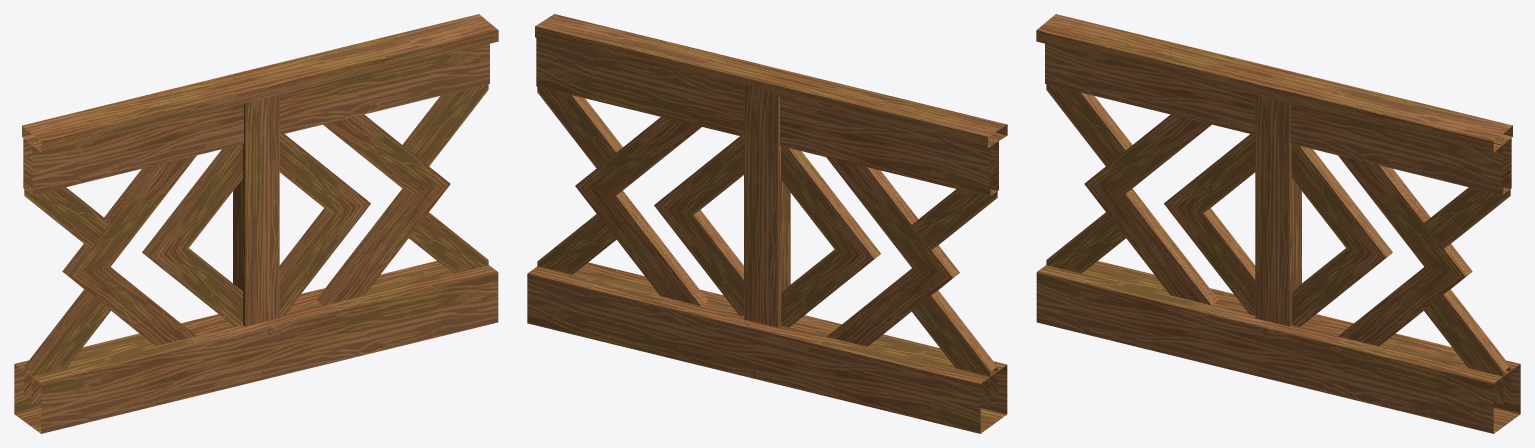
The model's file is Balcony_Cross_Straight.glb.
3 views of the same model, side by side, from view 1: azimuth 30°, elevation 25°; view 2: azimuth 150°, elevation 25°; view 3: azimuth 330°, elevation 25° (orthographic).
Parts seen in each view (by area): view 1: Balcony_Cross_Straight; view 2: Balcony_Cross_Straight; view 3: Balcony_Cross_Straight.
Part boxes in pixels (x1=…): Balcony_Cross_Straight: x1=14, y1=14, x2=498, y2=433; Balcony_Cross_Straight: x1=527, y1=14, x2=1007, y2=433; Balcony_Cross_Straight: x1=1036, y1=14, x2=1520, y2=433.
Size of the model in its own units: 2 by 1.23 by 0.2063.
1 material, 1 textured.
